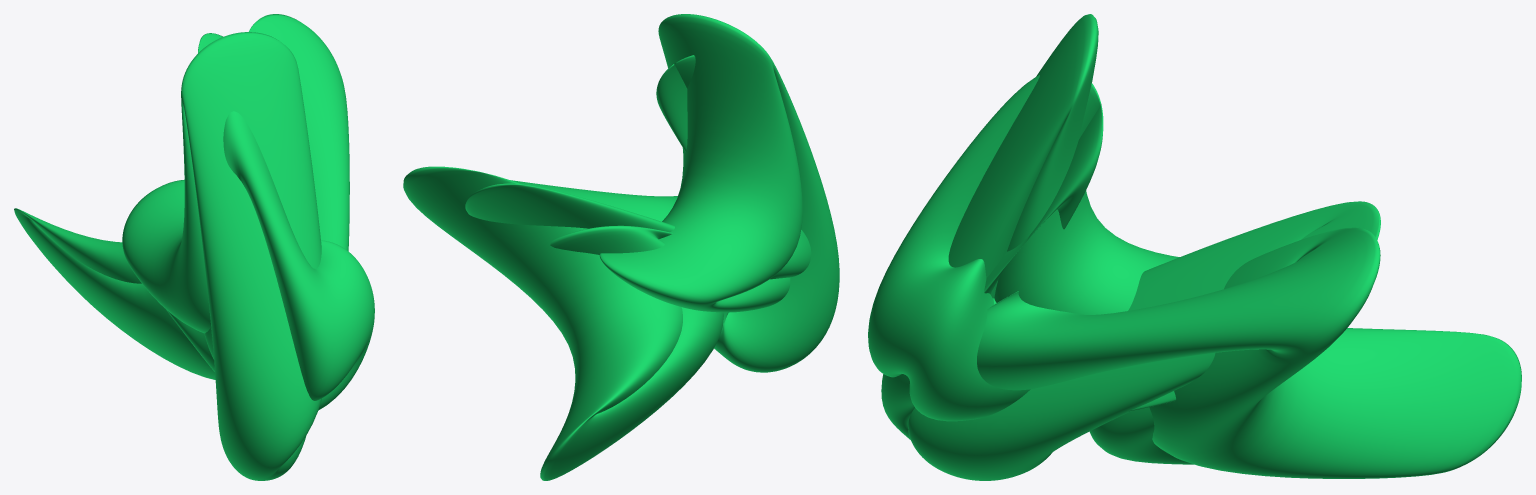
3 renders of one model, left to right at view 1: azimuth 30°, elevation 25°; view 2: azimuth 150°, elevation 25°; view 3: azimuth 270°, elevation 25°, orthographic. The views are drawn at different scales.
Visible parts, largest first — view 1: FD_CE; view 2: FD_CE; view 3: FD_CE.
Part boxes in pixels (box(x1,y1,x2,y2)): FD_CE: box(14, 14, 374, 480); FD_CE: box(403, 14, 839, 480); FD_CE: box(868, 14, 1521, 480).
Bounding box in the file's own units: 6.89 × 9.33 × 11.89.
